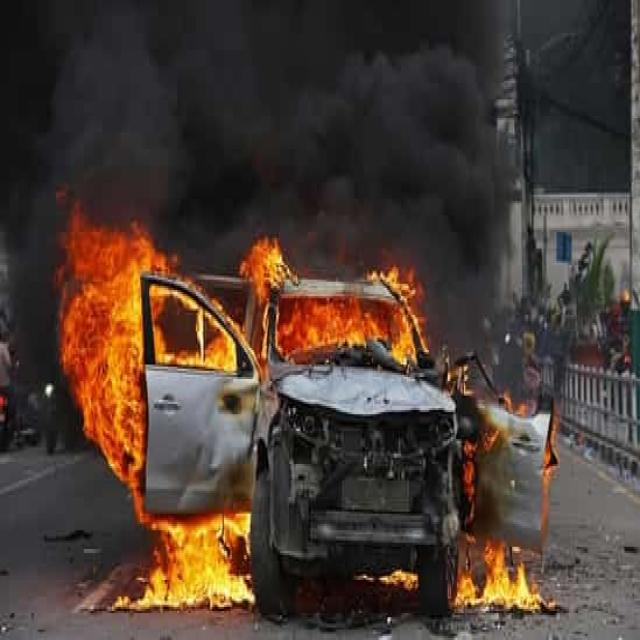fire: (239, 235, 428, 365), (53, 184, 178, 368), (108, 489, 256, 610), (65, 370, 147, 490), (452, 537, 558, 611), (178, 272, 249, 375), (539, 414, 557, 534), (358, 571, 418, 593)
